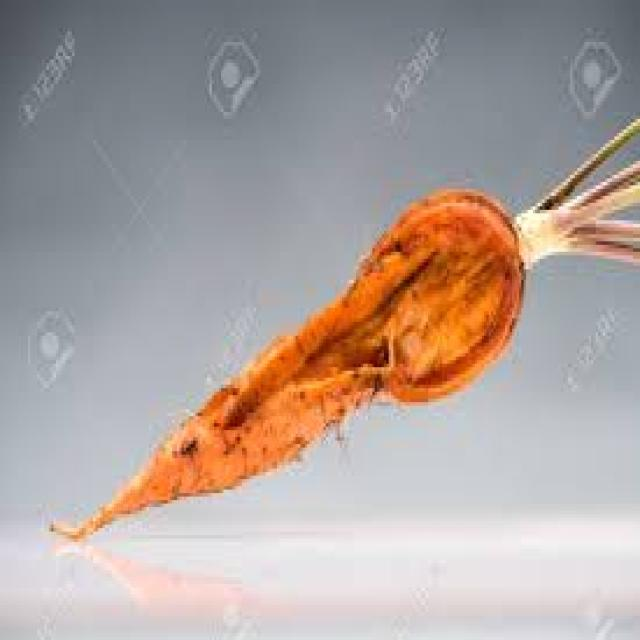Stale_Carrot: (58, 175, 556, 535)
